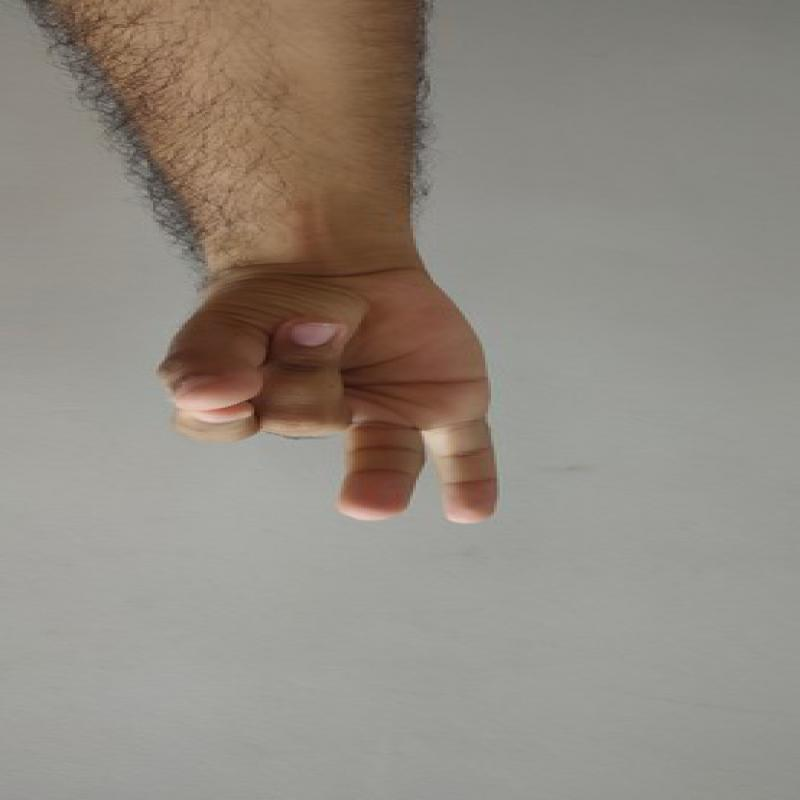Katakam: (151, 262, 511, 540)
